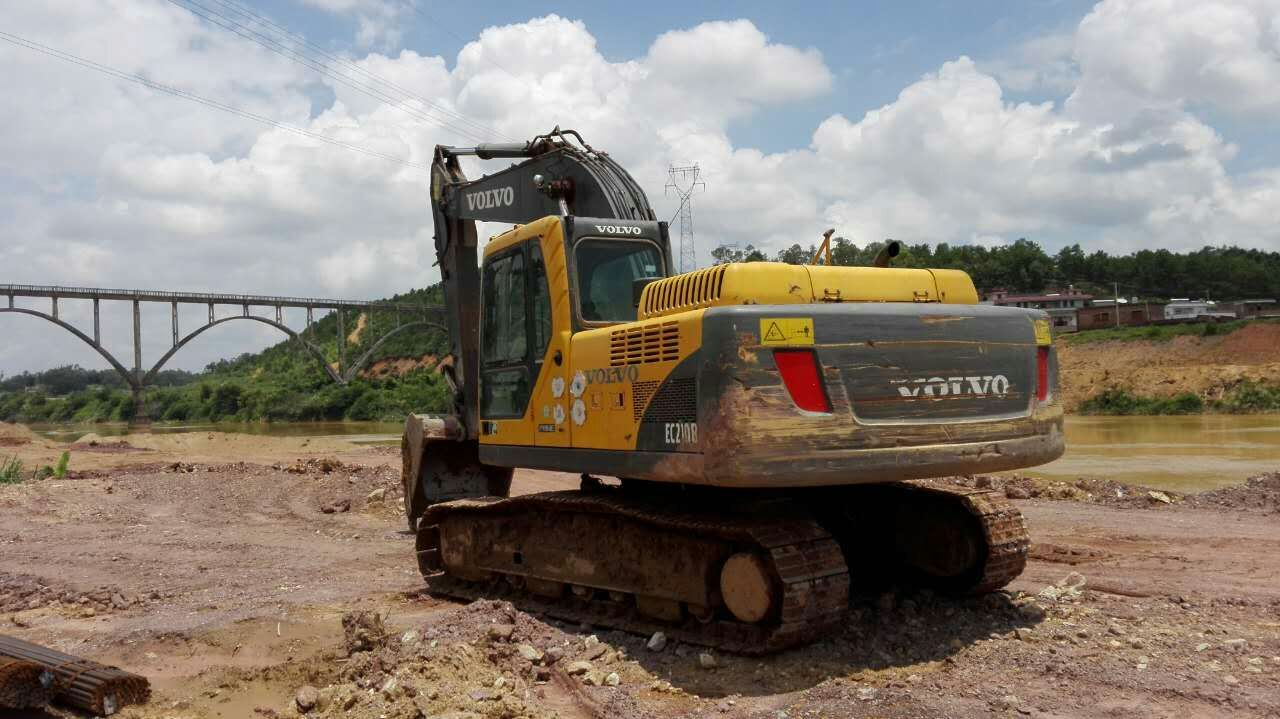excavator: (395, 129, 1093, 654)
